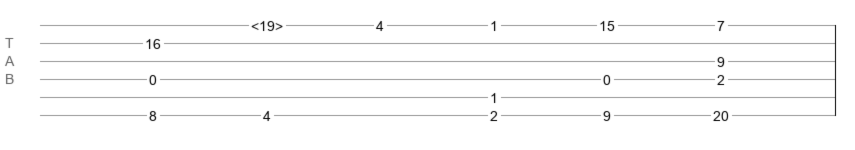0: (149, 72, 157, 82), (603, 72, 611, 82)
1: (490, 18, 498, 28), (490, 90, 498, 100)
15: (599, 18, 615, 28)
16: (145, 36, 161, 46)
2: (490, 108, 498, 118), (717, 72, 725, 82)
20: (713, 108, 729, 118)
4: (263, 108, 271, 118), (376, 18, 384, 28)
7: (717, 18, 725, 28)
8: (149, 108, 157, 118)
9: (603, 108, 611, 118), (717, 54, 725, 64)
harmonic: (251, 18, 283, 28)
